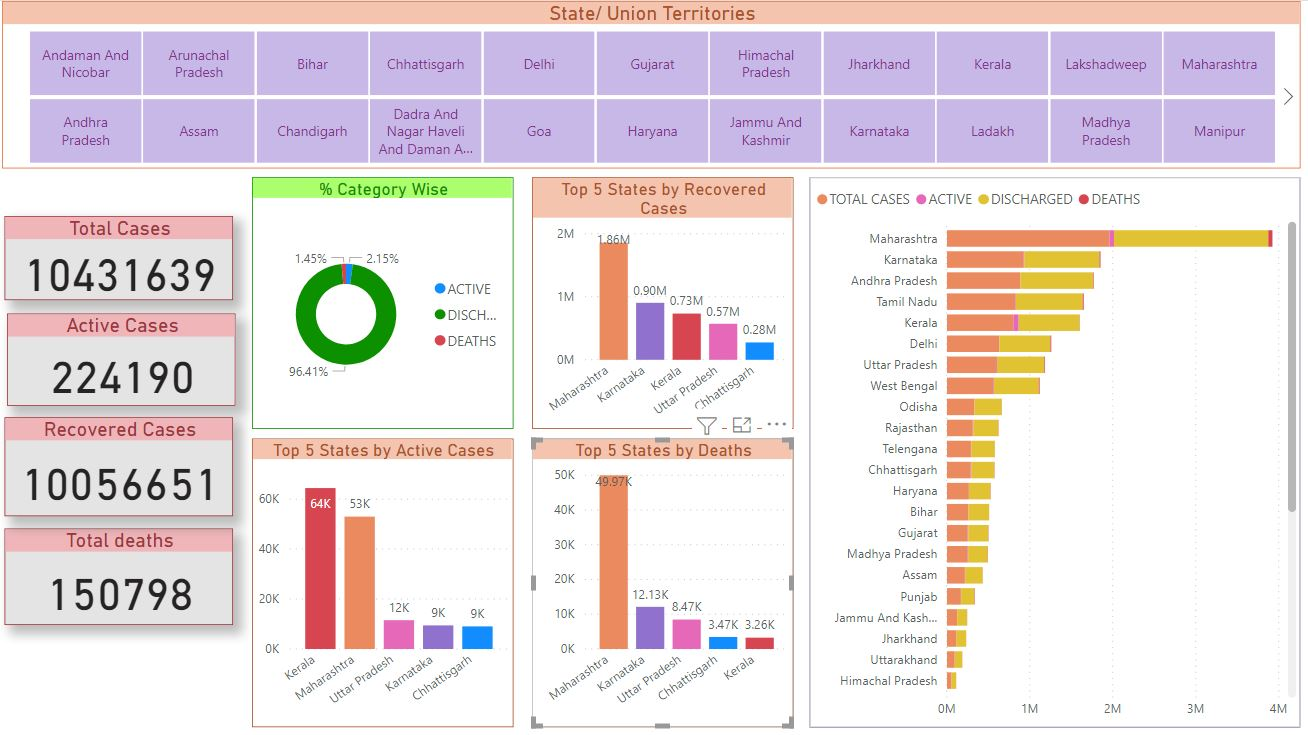

The dashboard page shown, as its layout file describes it:
{"tool":"powerbi","page":{"name":"Page 1","canvas":[1280,720],"ordinal":0},"visuals":[{"type":"slicer","title":"State/ Union Territories","fields":{"Values":["Covid India Dataset (2).STATE/UTS"]},"box":[9.7,0,1259.4,162.4],"z":0},{"type":"card","title":"Total Cases","fields":{"Values":["Sum(Covid India Dataset (2).TOTAL CASES)"]},"box":[12.6,209,221.8,81.2],"z":1000},{"type":"card","title":"Active Cases","fields":{"Values":["Sum(Covid India Dataset (2).ACTIVE)"]},"box":[15,303.5,221.8,89.7],"z":2000},{"type":"card","title":"Total deaths","fields":{"Values":["Sum(Covid India Dataset (2).DEATHS)"]},"box":[12.6,512,221.8,93.3],"z":3000},{"type":"card","title":"Recovered Cases","fields":{"Values":["Sum(Covid India Dataset (2).DISCHARGED)"]},"box":[12.6,404.1,221.8,95.8],"z":4000},{"type":"donutChart","title":"% Category Wise","fields":{"Y":["Sum(Covid India Dataset (2).ACTIVE)","Sum(Covid India Dataset (2).DISCHARGED)","Sum(Covid India Dataset (2).DEATHS)"]},"box":[252.1,170.9,253.3,243.6],"z":5000},{"type":"columnChart","title":"Top 5 States by Active Cases","fields":{"Category":["Covid India Dataset (2).STATE/UTS"],"Y":["Sum(Covid India Dataset (2).ACTIVE)"]},"box":[252.1,424.2,253.3,280],"z":6000},{"type":"barChart","fields":{"Category":["Covid India Dataset (2).STATE/UTS"],"Y":["Sum(Covid India Dataset (2).TOTAL CASES)","Sum(Covid India Dataset (2).ACTIVE)","Sum(Covid India Dataset (2).DISCHARGED)","Sum(Covid India Dataset (2).DEATHS)"]},"box":[792.7,170.9,476.4,533.3],"z":6001},{"type":"columnChart","title":"Top 5 States by Recovered Cases","fields":{"Category":["Covid India Dataset (2).STATE/UTS"],"Y":["Sum(Covid India Dataset (2).DISCHARGED)"]},"box":[523.6,170.9,253.3,243.6],"z":6002},{"type":"columnChart","title":"Top 5 States by Deaths","fields":{"Category":["Covid India Dataset (2).STATE/UTS"],"Y":["Sum(Covid India Dataset (2).DEATHS)"]},"box":[523.6,424.2,253.3,280],"z":6003}]}

Visuals, with their boxes in screenshot pixels (x1, y1, x2, y2), scaled from the page's 1280x720 canvas onto the 1308x735 screenshot:
"State/ Union Territories" slicer: {"x1": 10, "y1": 0, "x2": 1297, "y2": 166}
"Total Cases" card: {"x1": 13, "y1": 213, "x2": 240, "y2": 296}
"Active Cases" card: {"x1": 15, "y1": 310, "x2": 242, "y2": 401}
"Total deaths" card: {"x1": 13, "y1": 523, "x2": 240, "y2": 618}
"Recovered Cases" card: {"x1": 13, "y1": 413, "x2": 240, "y2": 510}
"% Category Wise" donutChart: {"x1": 258, "y1": 174, "x2": 516, "y2": 423}
"Top 5 States by Active Cases" columnChart: {"x1": 258, "y1": 433, "x2": 516, "y2": 719}
barChart - Covid India Dataset (2).STATE/UTS x Sum(Covid India Dataset (2).TOTAL CASES): {"x1": 810, "y1": 174, "x2": 1297, "y2": 719}
"Top 5 States by Recovered Cases" columnChart: {"x1": 535, "y1": 174, "x2": 794, "y2": 423}
"Top 5 States by Deaths" columnChart: {"x1": 535, "y1": 433, "x2": 794, "y2": 719}
